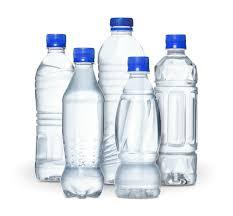Plastic bottle: (144, 29, 202, 190), (25, 29, 76, 187), (110, 48, 160, 205), (63, 25, 102, 200), (100, 9, 125, 186)
